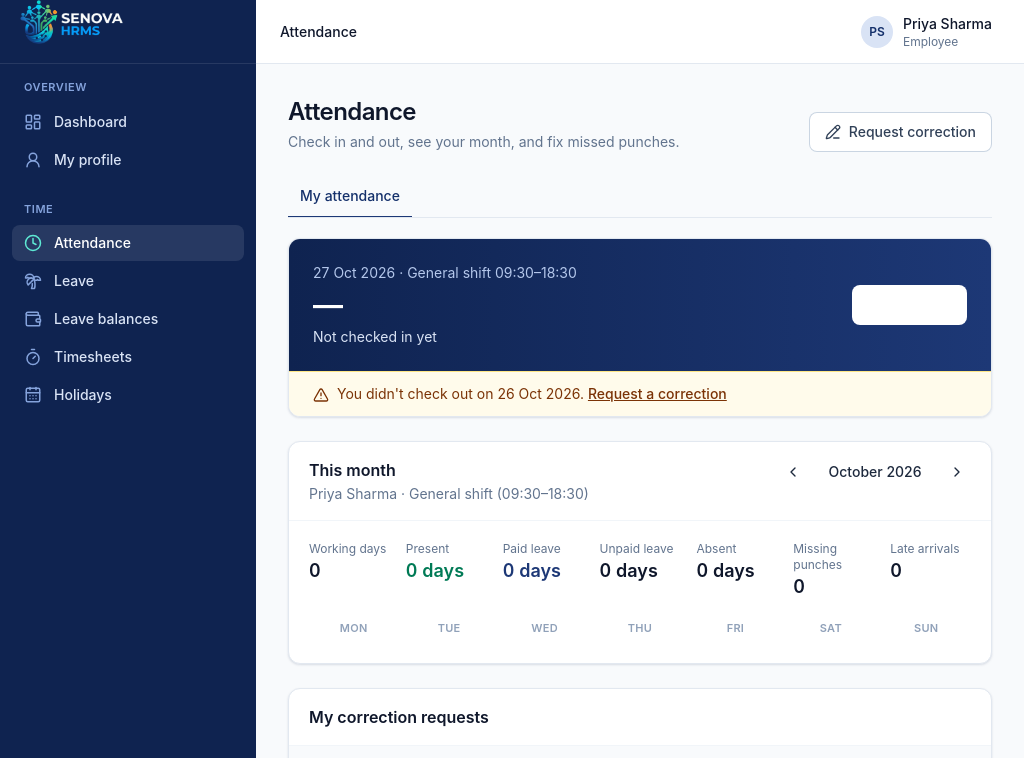
Test case: attendance › flags a missed check-out and validates correction requests
This screenshot has width=1024, height=758.
Check: the text "You didn't check out on 26 Oct 2026. Request a correction" is shown, box [289, 371, 991, 416]
What coordinates should you click on to do the following:
click the button "Request a correction"
I would click on:
 (657, 394)
Its box is [588, 384, 727, 404].
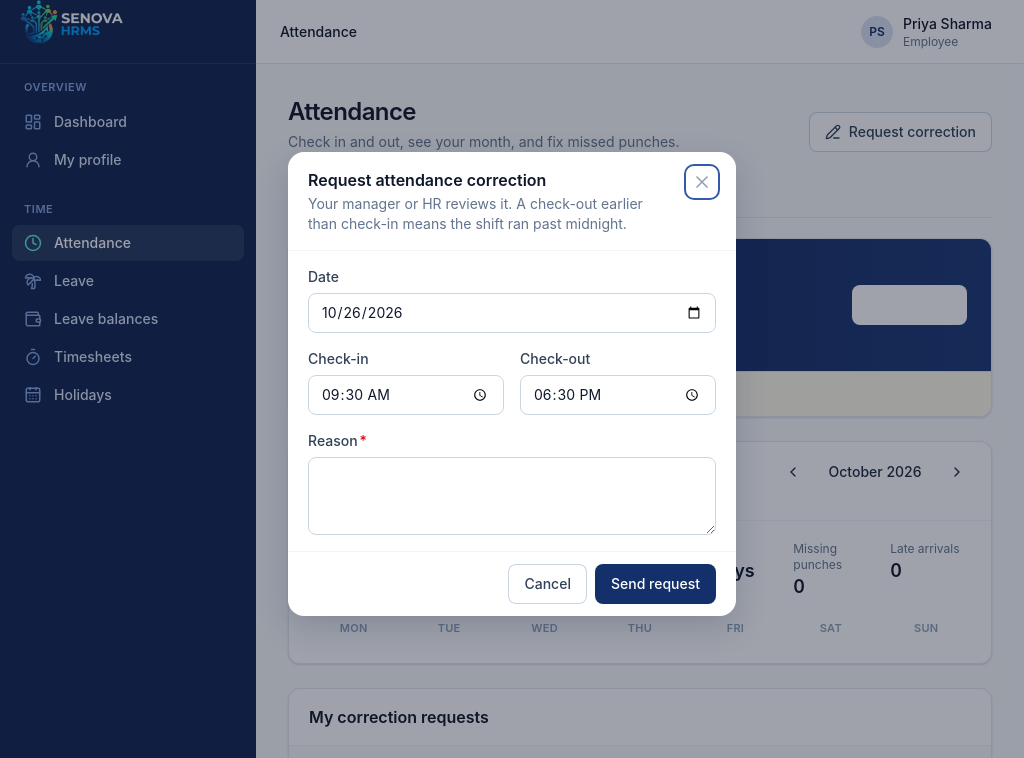
What coordinates should you click on to do the following:
click the button "Send request"
I would click on:
 (655, 584)
Its box is [595, 564, 716, 604].
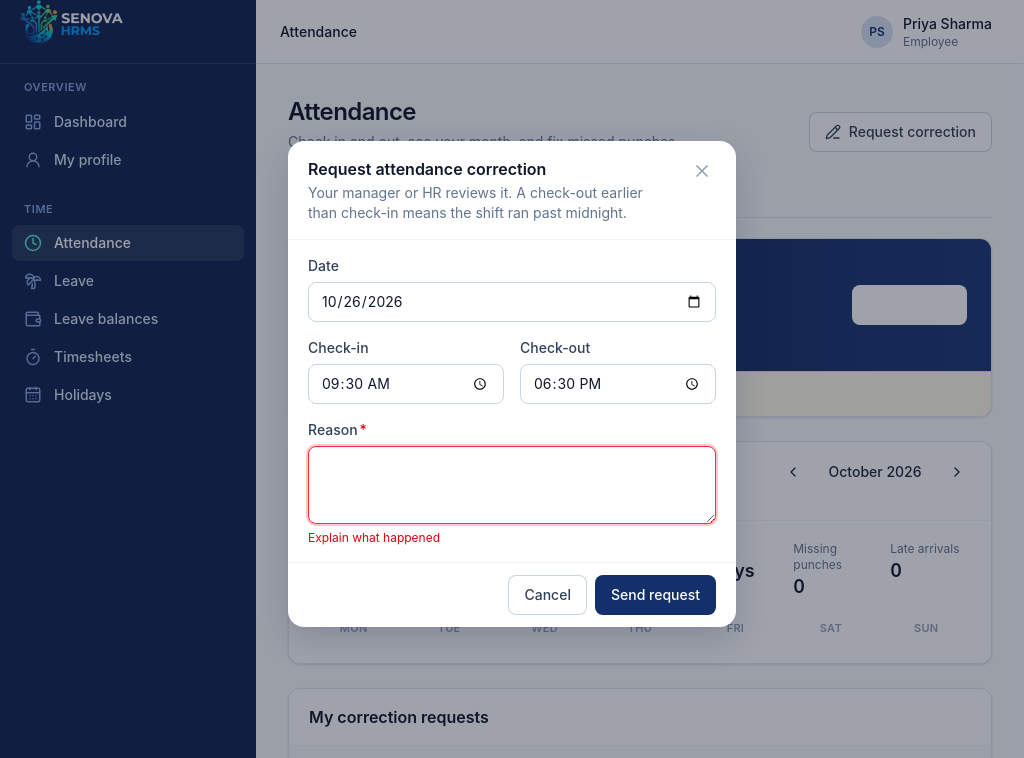
Check: the text "Explain what happened" is shown, box [308, 530, 440, 545]
